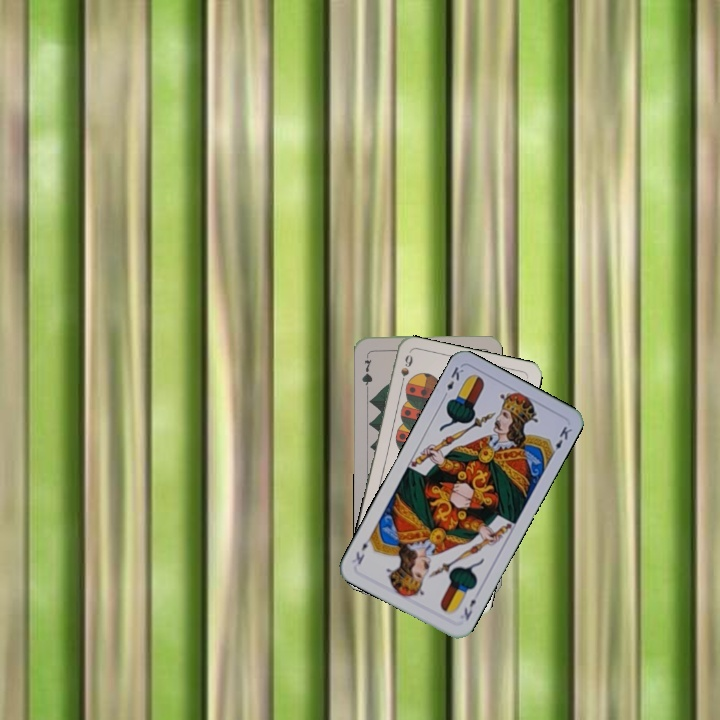EK: (439, 362, 466, 401), (460, 595, 479, 623)
G7: (358, 350, 375, 391)
S9: (397, 351, 415, 390)
